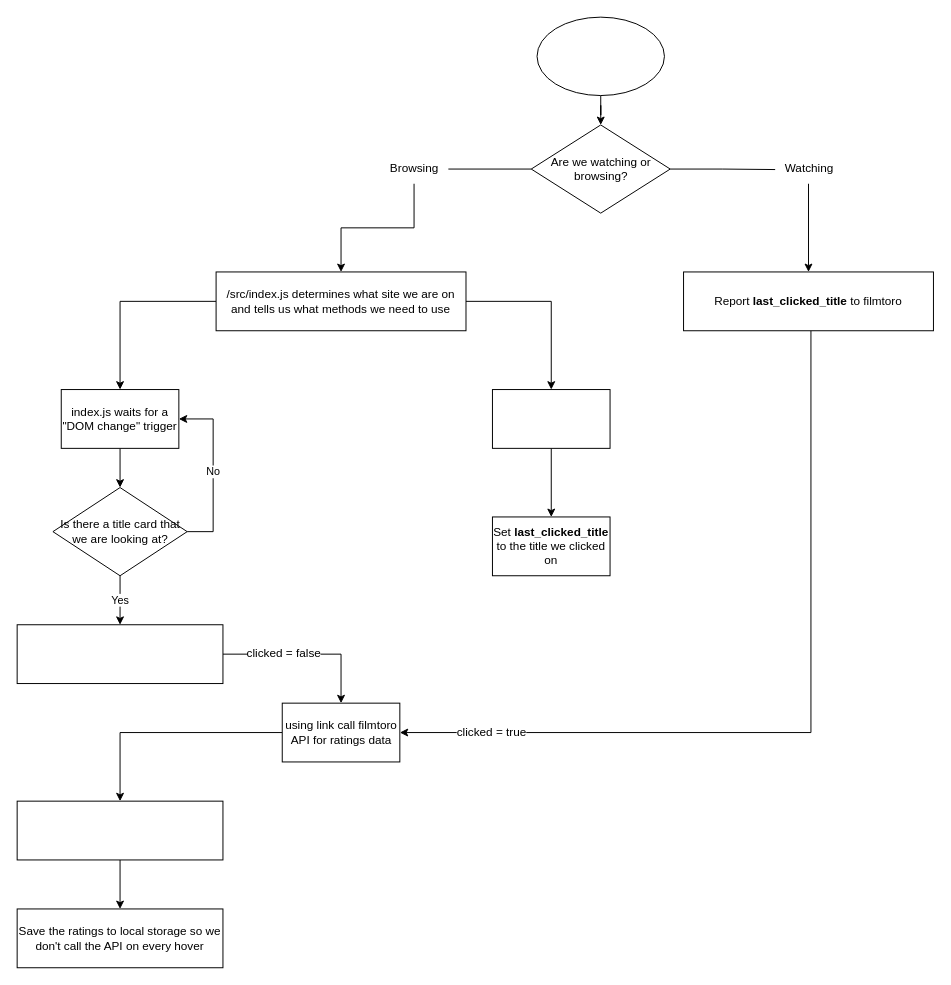
Some shapes in this 951 by 985 pixel diagram are drawn without their labels. The box of each missing label's shape, as (x1, y1, x2, y2) in pixels:
index.js waits for a "mousedown" trigger: (491, 389, 610, 448)
src/main/[site name]/index.js displays the ratings , matching the site's style: (16, 800, 223, 860)
src/main/[site name]/index.js gets the link of the title we are looking at: (16, 624, 223, 684)
Visit to a supported streaming site: (536, 16, 664, 96)
